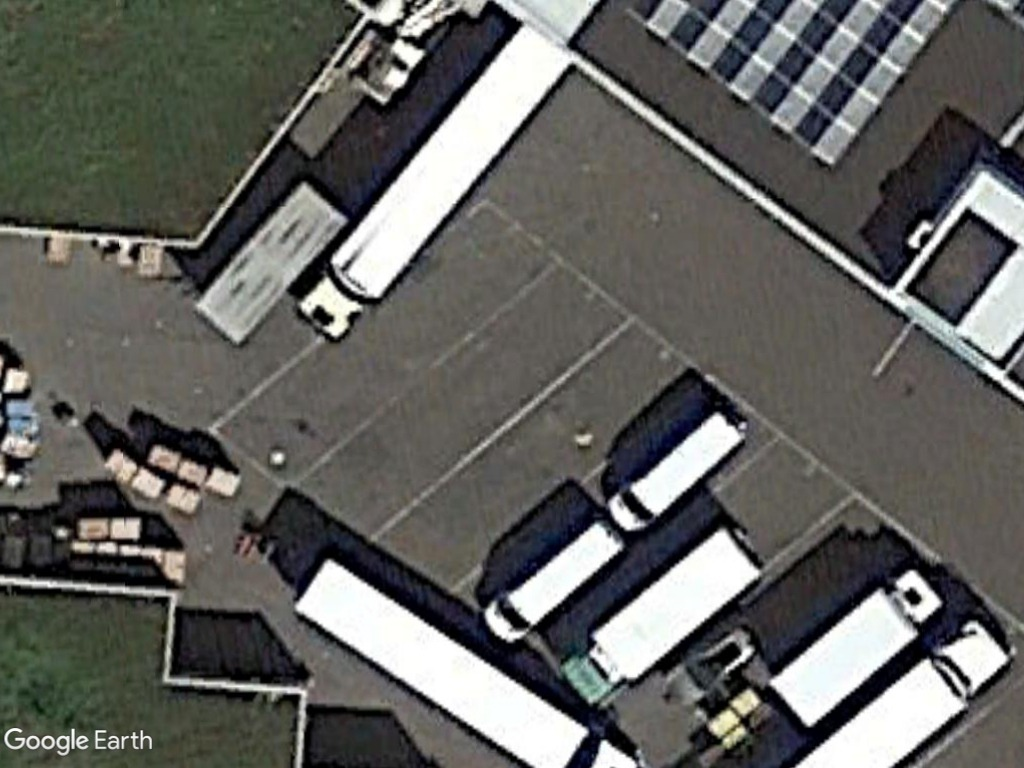longvehicle: (297, 25, 575, 341)
truck: (558, 525, 770, 712), (761, 568, 947, 727)
van: (603, 405, 756, 534), (481, 518, 621, 647)
